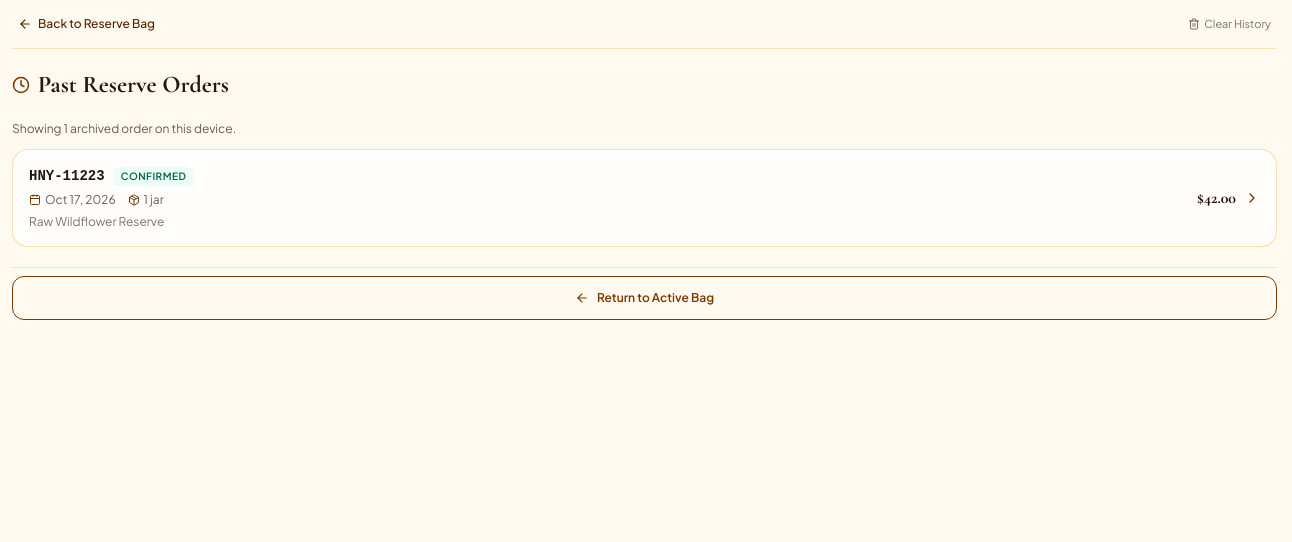
Test: OrderHistory Component (satisfies AC-9) › clears order history when Clear History is clicked (AC-9)
Expected: the text "HNY-11223" is shown, top-left (29, 166), bottom-right (105, 186)
What coordinates should you click on to do the following:
click the button "Clear History"
I would click on:
 (1230, 24)
Its box is top-left (1182, 14), bottom-right (1277, 34).
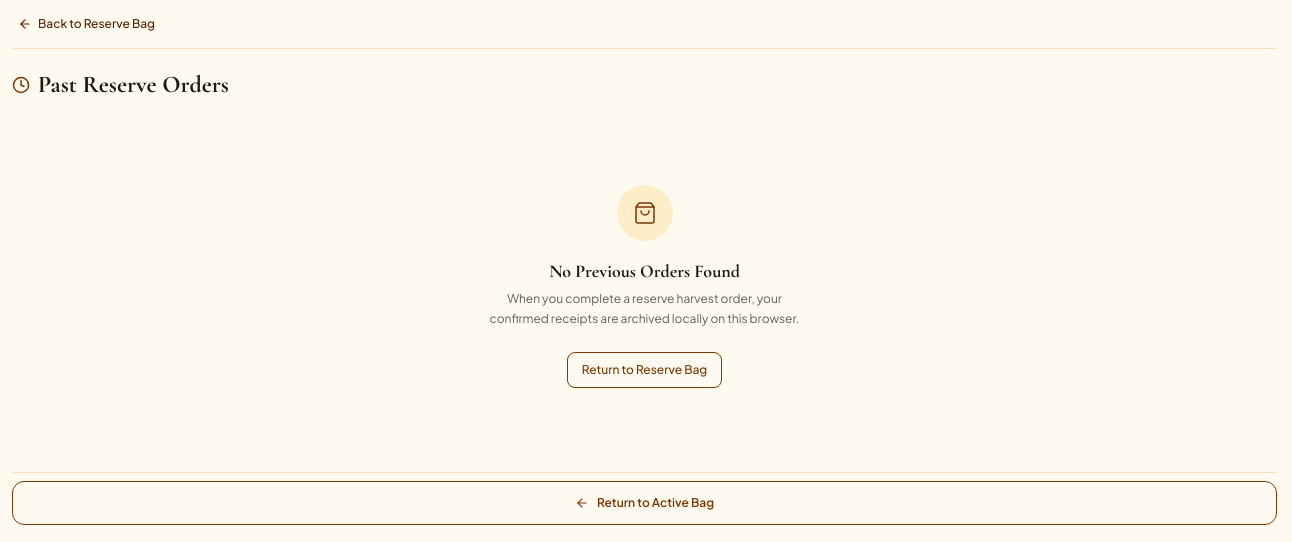
Expected: the heading "No Previous Orders Found" is shown, top-left (549, 257), bottom-right (740, 285)
